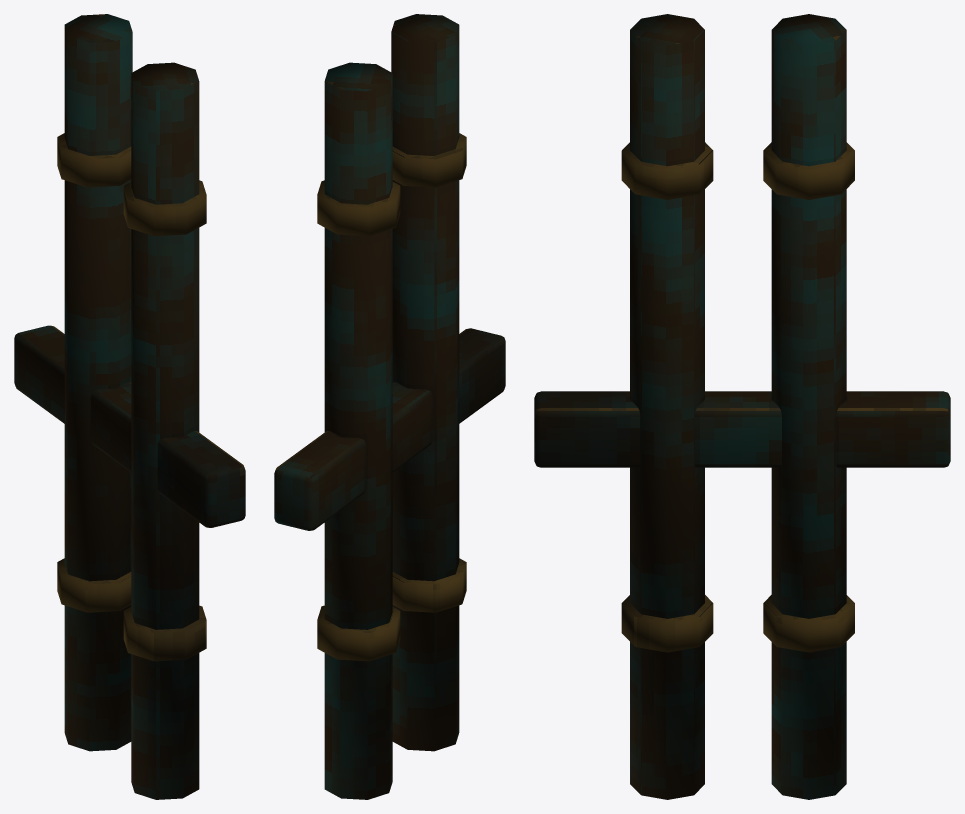
Rendered from abyss_bars_side.obj.
3 renders of one model, left to right at view 1: azimuth 30°, elevation 25°; view 2: azimuth 150°, elevation 25°; view 3: azimuth 270°, elevation 25°, orthographic. The views are drawn at different scales.
Parts seen in each view (by area): view 1: part0, part1; view 2: part0, part1; view 3: part0, part1.
Boxes of the visible parts, left/top/right/bottom form: part0: left=14, top=14, right=245, bottom=799; part1: left=57, top=133, right=206, bottom=661; part0: left=274, top=14, right=505, bottom=799; part1: left=317, top=133, right=466, bottom=661; part0: left=534, top=14, right=950, bottom=799; part1: left=621, top=142, right=854, bottom=652.
Bounding box in the file's own units: 0.11 × 1 × 0.5.
